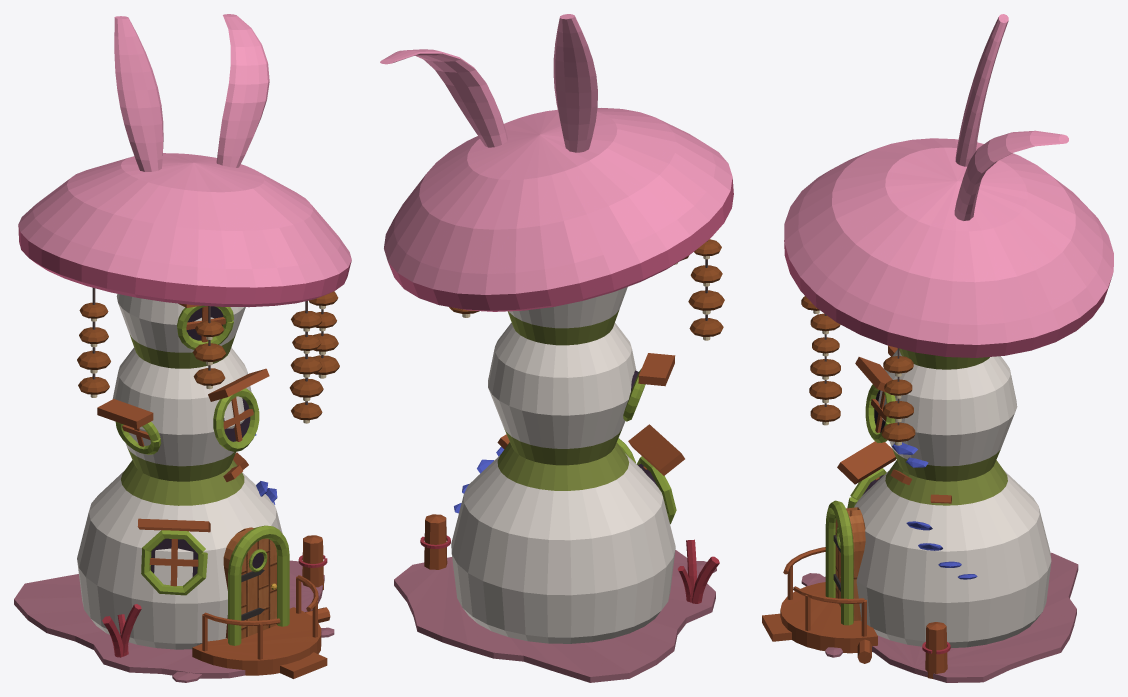
Rendered from mushroom_house.glb.
The picture shows the model from 3 angles, left to right: view 1: azimuth 30°, elevation 25°; view 2: azimuth 150°, elevation 25°; view 3: azimuth 270°, elevation 25°; orthographic projection. The views are drawn at different scales.
Parts seen in each view (by area): view 1: mushroom_house_cap, mushroom_house_body, mushroom_house_bunny_ears, mushroom_house_puddle, mushroom_house_balcony, mushroom_house_door, mushroom_house_window_low, mushroom_house_window_head_front, mushroom_house_hanger_3, mushroom_house_props, mushroom_house_hanger_1, mushroom_house_window_head_left (+4 smaller); view 2: mushroom_house_body, mushroom_house_cap, mushroom_house_puddle, mushroom_house_bunny_ears, mushroom_house_props, mushroom_house_window_low, mushroom_house_hanger_1, mushroom_house_window_head_left; view 3: mushroom_house_cap, mushroom_house_body, mushroom_house_puddle, mushroom_house_bunny_ears, mushroom_house_balcony, mushroom_house_door, mushroom_house_hanger_3, mushroom_house_hanger_4, mushroom_house_window_low, mushroom_house_window_head_front, mushroom_house_props, mushroom_house_shelves.
Part boxes in pixels (left/top/right/bottom): mushroom_house_cap: left=18, top=153, right=351, bottom=307; mushroom_house_body: left=77, top=294, right=282, bottom=649; mushroom_house_bunny_ears: left=114, top=14, right=269, bottom=171; mushroom_house_puddle: left=14, top=560, right=334, bottom=682; mushroom_house_balcony: left=192, top=575, right=327, bottom=678; mushroom_house_door: left=223, top=525, right=289, bottom=645; mushroom_house_window_low: left=137, top=518, right=210, bottom=595; mushroom_house_window_head_front: left=208, top=368, right=269, bottom=451; mushroom_house_hanger_3: left=289, top=301, right=323, bottom=423; mushroom_house_props: left=102, top=535, right=330, bottom=657; mushroom_house_hanger_1: left=77, top=288, right=110, bottom=397; mushroom_house_window_head_left: left=97, top=399, right=161, bottom=454; mushroom_house_body: left=451, top=287, right=675, bottom=643; mushroom_house_cap: left=384, top=108, right=733, bottom=311; mushroom_house_puddle: left=394, top=550, right=716, bottom=682; mushroom_house_bunny_ears: left=380, top=14, right=597, bottom=152; mushroom_house_props: left=420, top=514, right=719, bottom=603; mushroom_house_window_low: left=628, top=424, right=684, bottom=524; mushroom_house_hanger_1: left=688, top=239, right=724, bottom=340; mushroom_house_window_head_left: left=623, top=353, right=675, bottom=421; mushroom_house_cap: left=784, top=138, right=1113, bottom=357; mushroom_house_body: left=854, top=348, right=1051, bottom=647; mushroom_house_puddle: left=801, top=552, right=1078, bottom=682; mushroom_house_bunny_ears: left=954, top=14, right=1068, bottom=220; mushroom_house_balcony: left=762, top=547, right=877, bottom=653; mushroom_house_door: left=825, top=500, right=865, bottom=625; mushroom_house_hanger_3: left=809, top=313, right=841, bottom=425; mushroom_house_hanger_4: left=881, top=348, right=915, bottom=445; mushroom_house_window_low: left=837, top=441, right=896, bottom=508; mushroom_house_window_head_front: left=855, top=357, right=895, bottom=442; mushroom_house_props: left=857, top=622, right=950, bottom=678; mushroom_house_shelves: left=890, top=442, right=977, bottom=579.
Bounding box in the file's own units: 6.41 × 12.53 × 6.87.
2 materials, 2 textured.
